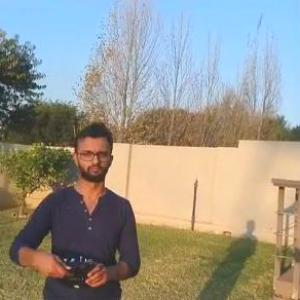follow: (4, 115, 147, 299)
